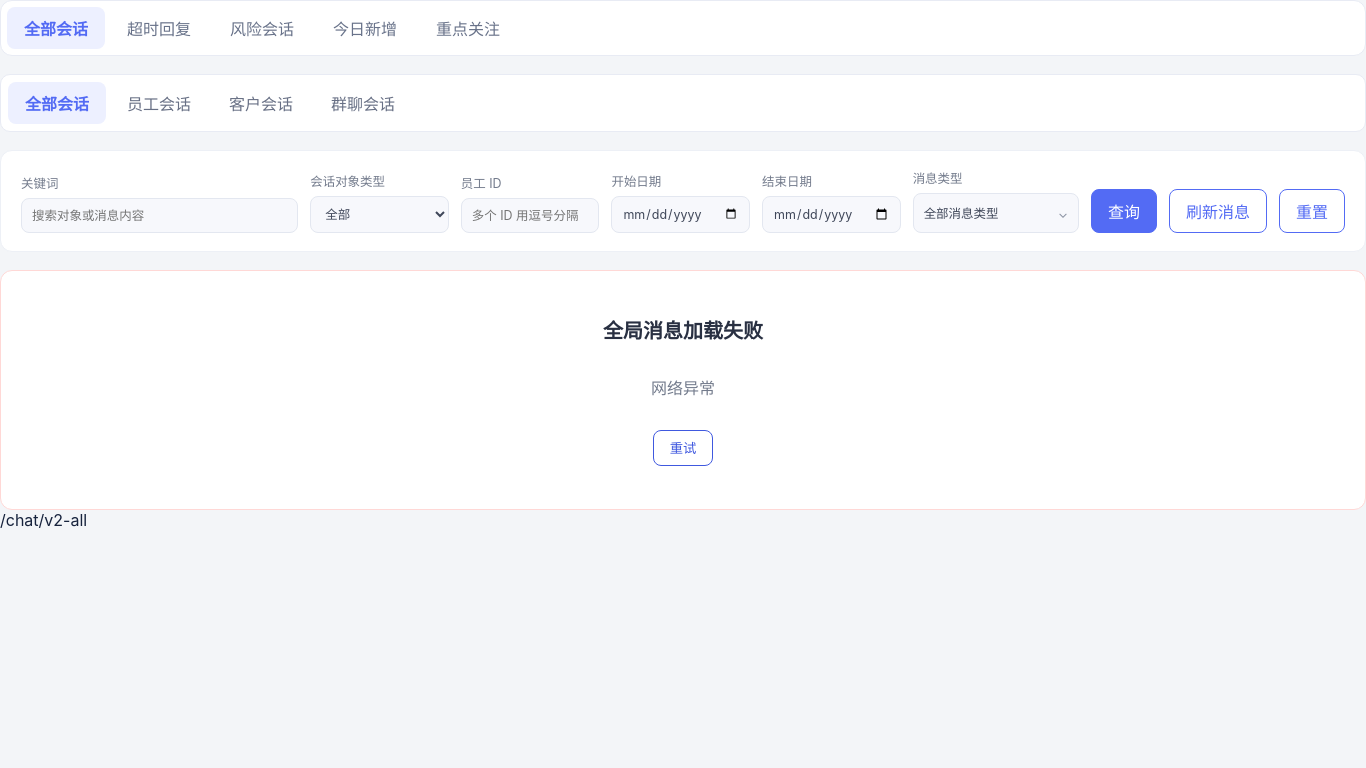
Scenario: ConversationGlobalPage › shows empty and retryable list states
Check: the message "全局消息加载失败 网络异常 重试" is shown, box [0,270,1365,510]
Click the button "重试" at {"x": 683, "y": 448}, box [653,430,713,466]
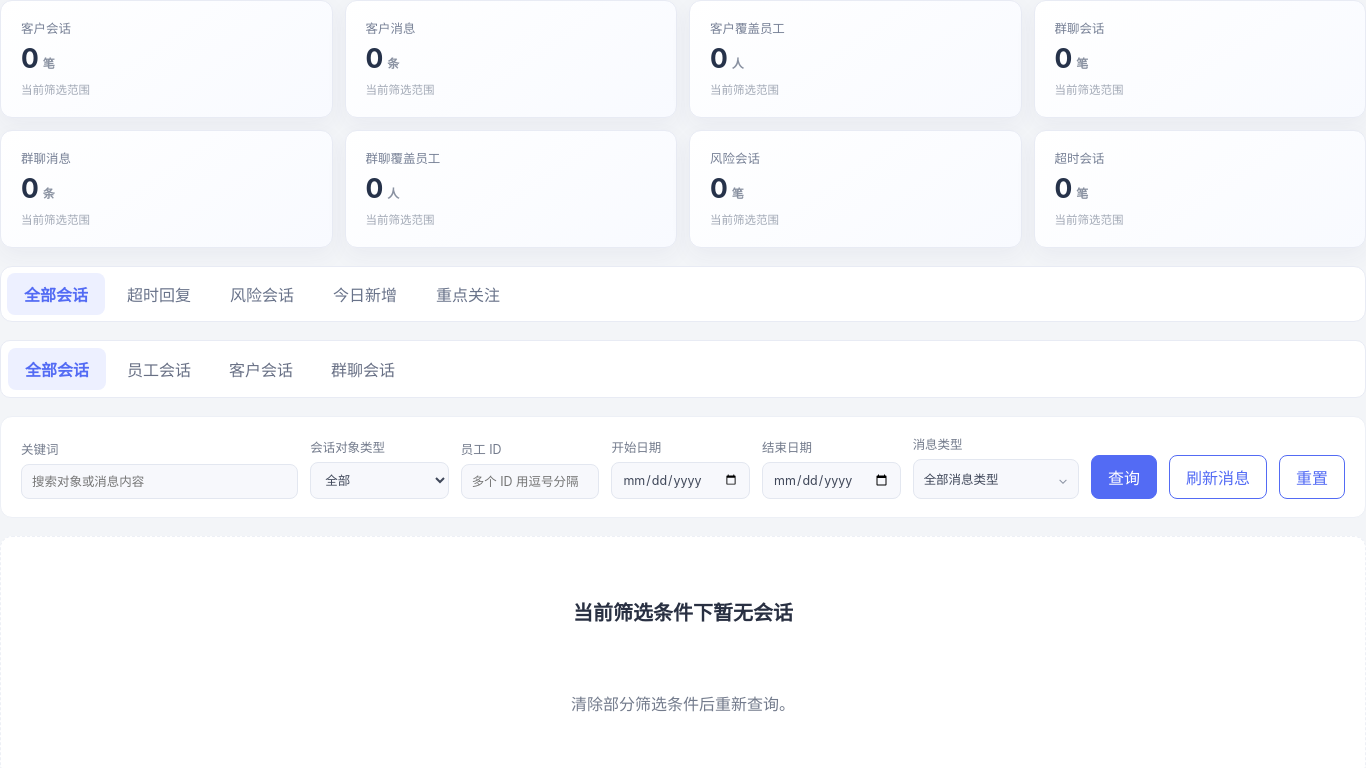
Check: the heading "当前筛选条件下暂无会话" is shown, box [573,597,793,626]
